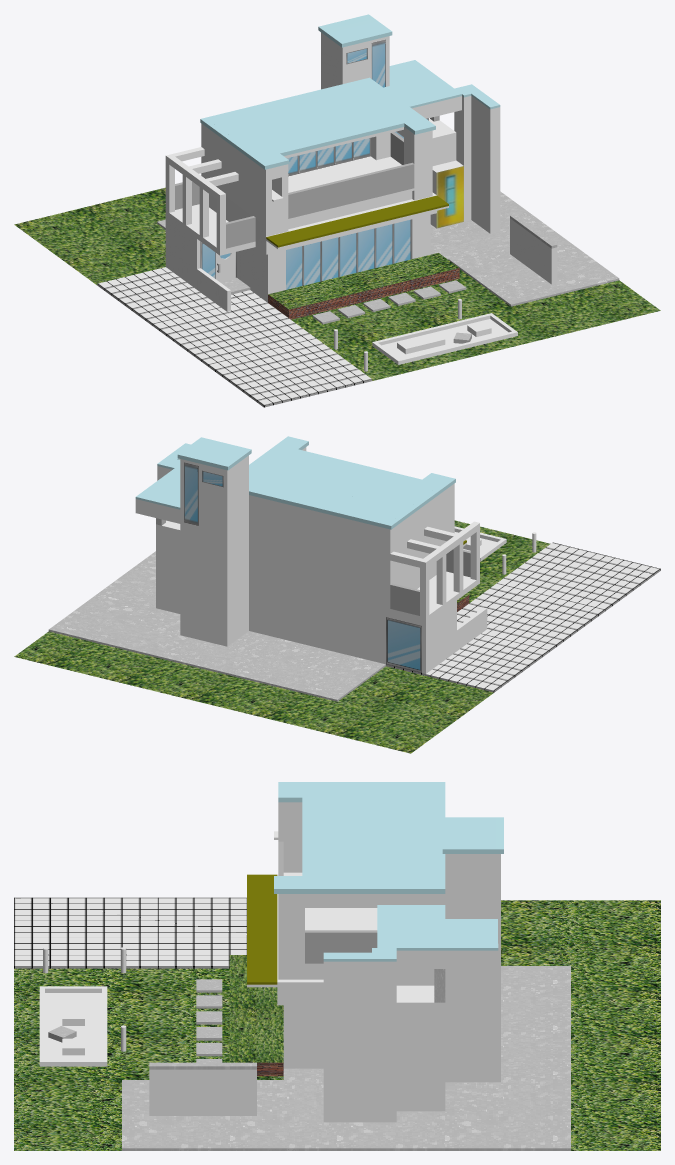
Rendered from kanamehome_out.fbx.
3 renders of one model, top to bottom at view 1: azimuth 30°, elevation 25°; view 2: azimuth 150°, elevation 25°; view 3: azimuth 270°, elevation 25°, orthographic. The views are drawn at different scales.
Parts seen in each view (by area): view 1: kanamahome_out; view 2: kanamahome_out; view 3: kanamahome_out.
Boxes of the visible parts, left/top/right/bottom form: kanamahome_out: left=14, top=14, right=660, bottom=407; kanamahome_out: left=14, top=436, right=660, bottom=753; kanamahome_out: left=14, top=782, right=660, bottom=1150.
Size of the model in its own units: 1100 by 484 by 1200.
